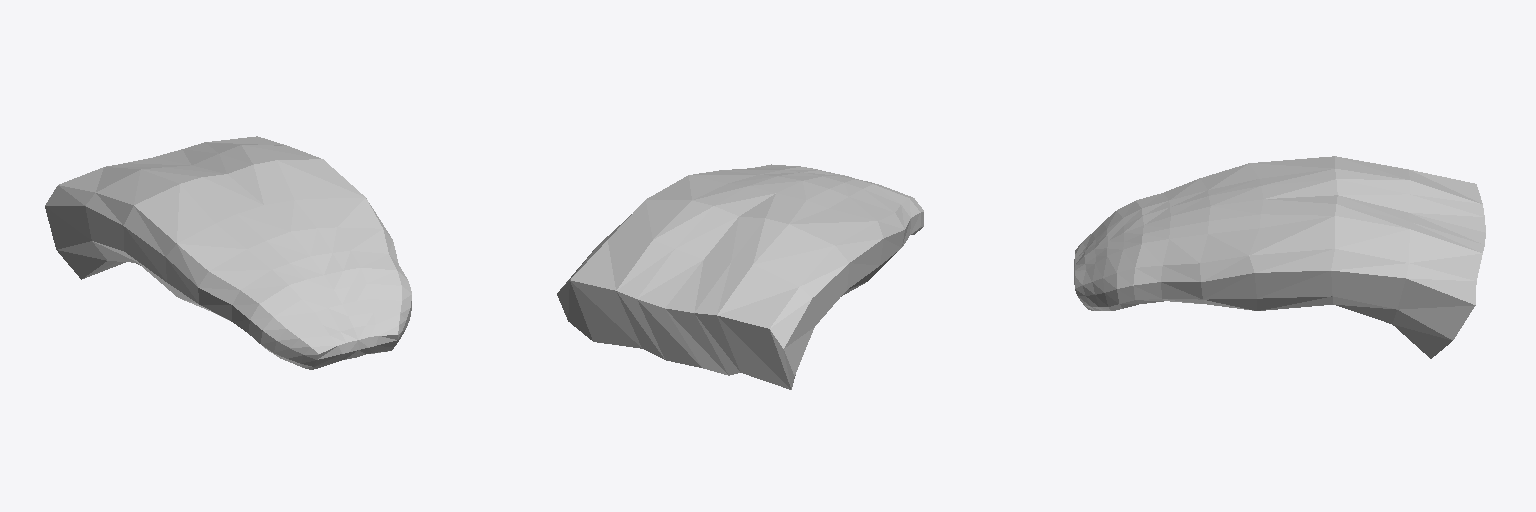
The model's file is tongue.obj.
3 renders of one model, left to right at view 1: azimuth 30°, elevation 25°; view 2: azimuth 150°, elevation 25°; view 3: azimuth 270°, elevation 25°, orthographic.
Visible parts, largest first — view 1: tongue01Mesh; view 2: tongue01Mesh; view 3: tongue01Mesh.
Part boxes in pixels (left/top/right/bottom): tongue01Mesh: left=45, top=136, right=411, bottom=369; tongue01Mesh: left=557, top=164, right=923, bottom=389; tongue01Mesh: left=1074, top=156, right=1485, bottom=358.
Bounding box in the file's own units: 0.0439 × 0.0238 × 0.0692.